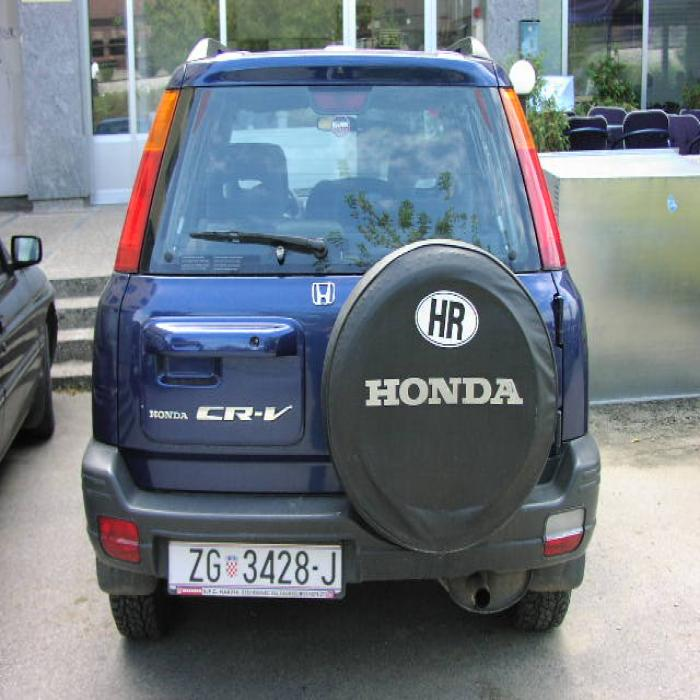number_plate: (168, 542, 342, 590)
